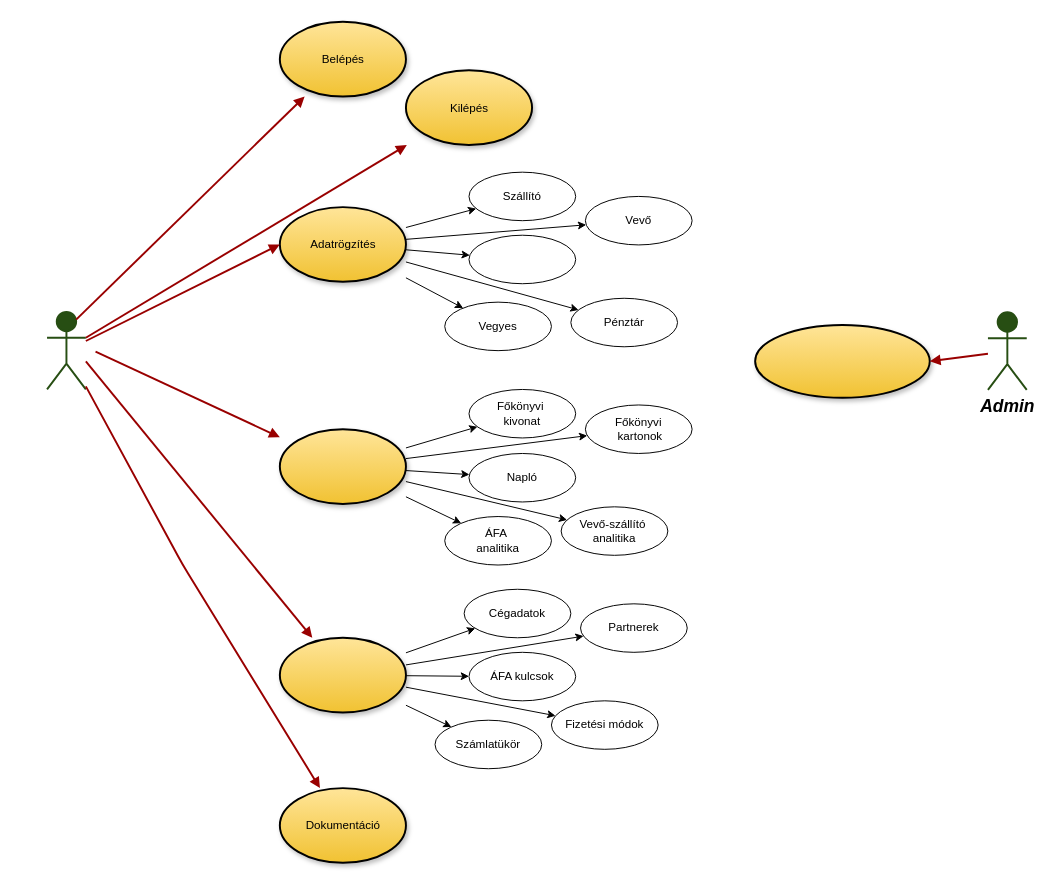
Image size: 1051x887. Some labels were removed from this diagram. The shapes that lost their labels are listed below. From the top down, each one's centre as x and y in pixels, then its label:
(x=522, y=259): Bank
(x=66, y=350): Felhasználó
(x=843, y=362): Felhasználók karbantartása
(x=343, y=467): Listák készítése
(x=343, y=676): Beállítások
